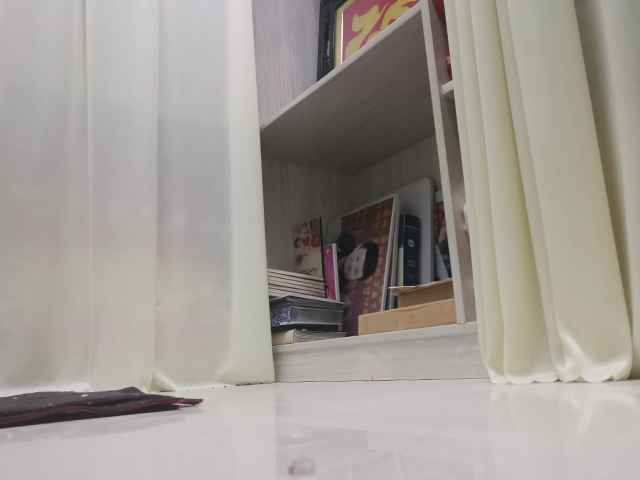cabinet: (251, 1, 491, 381)
carpet: (1, 383, 204, 429)
curtain: (1, 1, 277, 391), (437, 1, 640, 387)
